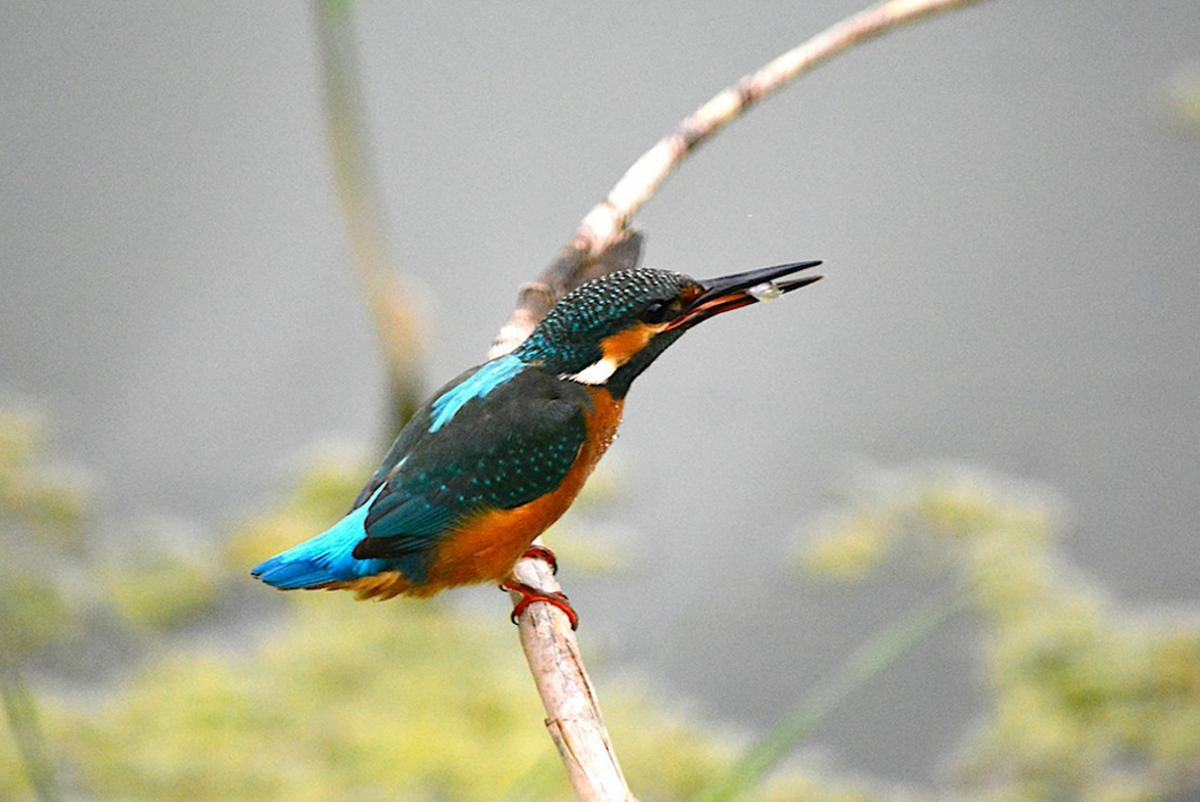kingfisher: (283, 233, 849, 623)
